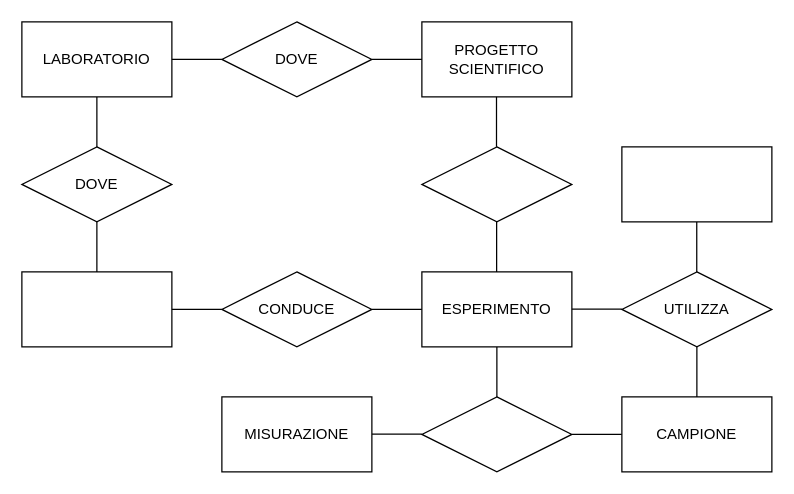
This 794x494 diagram has some shape labels left out. The centre of each missing label's shape, as x and y in pixels:
APPARTIENE A: the point at 496,184
PRODUCE: the point at 496,434
PROTOCOLLO: the point at 696,184
RICERCATORE: the point at 96,309
